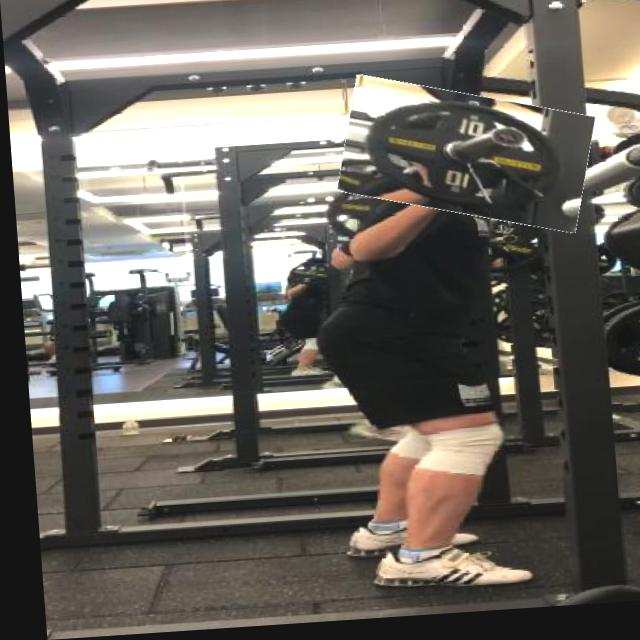barbell: (334, 82, 594, 241)
